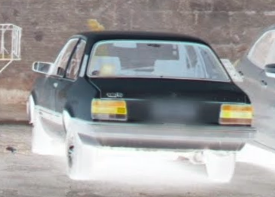car: (26, 32, 256, 184)
